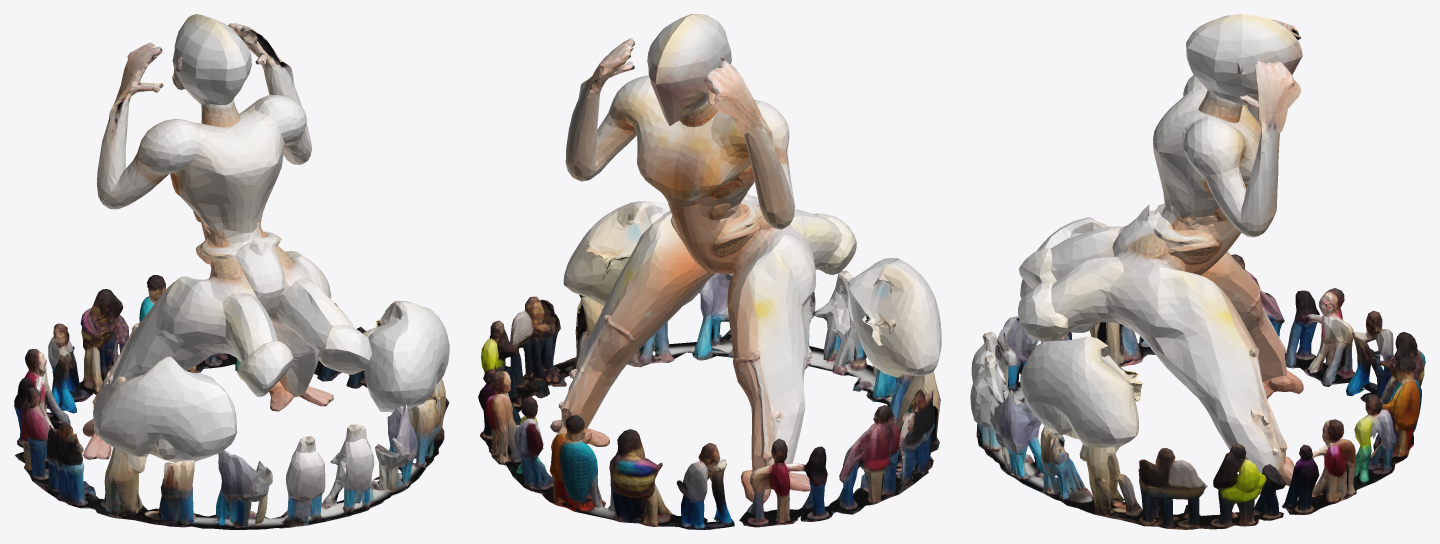
File: modelo3.glb
3 views of the same model, side by side, from view 1: azimuth 30°, elevation 25°; view 2: azimuth 150°, elevation 25°; view 3: azimuth 270°, elevation 25° (orthographic). The views are drawn at different scales.
Parts seen in each view (by area): view 1: world; view 2: world; view 3: world.
Boxes of the visible parts, left/top/right/bottom form: world: left=14, top=14, right=449, bottom=529; world: left=478, top=14, right=941, bottom=529; world: left=970, top=14, right=1425, bottom=529.
Bounding box in the file's own units: 0.9297 × 0.9624 × 0.9333.
Materials: 1 (1 with a texture image).
